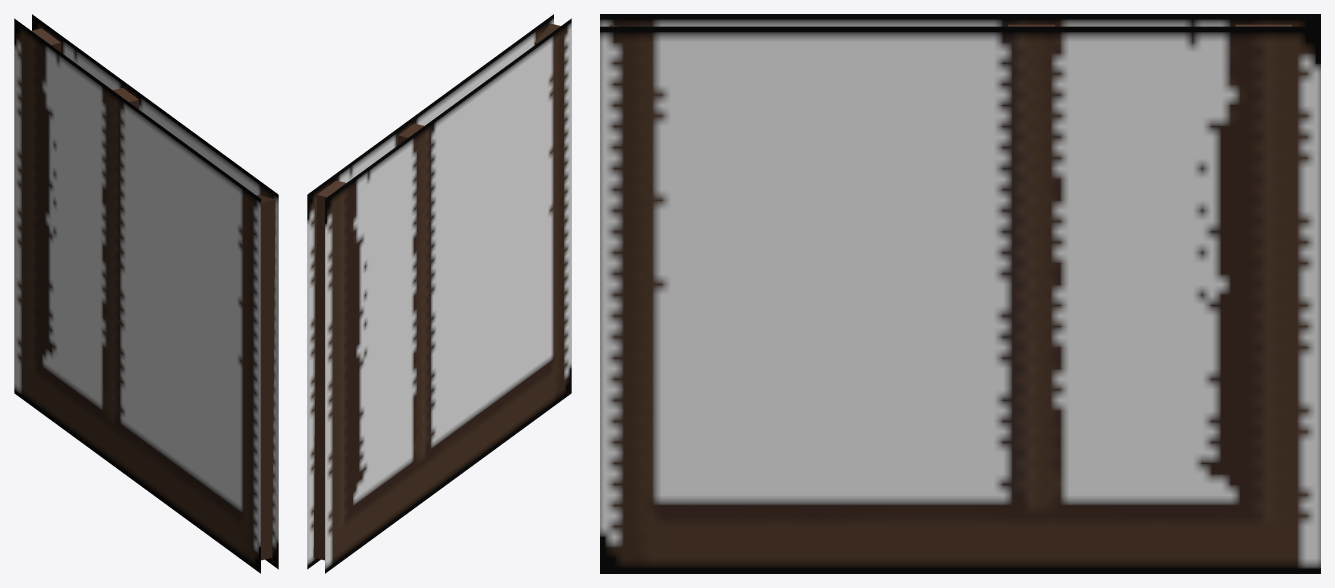
Rendered from pz_native_fixtures_windows_01_69_frame.obj.
The picture shows the model from 3 angles, left to right: view 1: azimuth 30°, elevation 25°; view 2: azimuth 150°, elevation 25°; view 3: azimuth 270°, elevation 25°; orthographic projection. The views are drawn at different scales.
Parts seen in each view (by area): view 1: pz_native_fixtures_windows_01_69_frame; view 2: pz_native_fixtures_windows_01_69_frame; view 3: pz_native_fixtures_windows_01_69_frame.
Part boxes in pixels (bbox=[...]): pz_native_fixtures_windows_01_69_frame: bbox=[14, 14, 278, 573]; pz_native_fixtures_windows_01_69_frame: bbox=[307, 14, 571, 573]; pz_native_fixtures_windows_01_69_frame: bbox=[600, 14, 1320, 573].
Size of the model in its own units: 0.04 by 0.8125 by 0.9696.
1 material, 1 textured.
